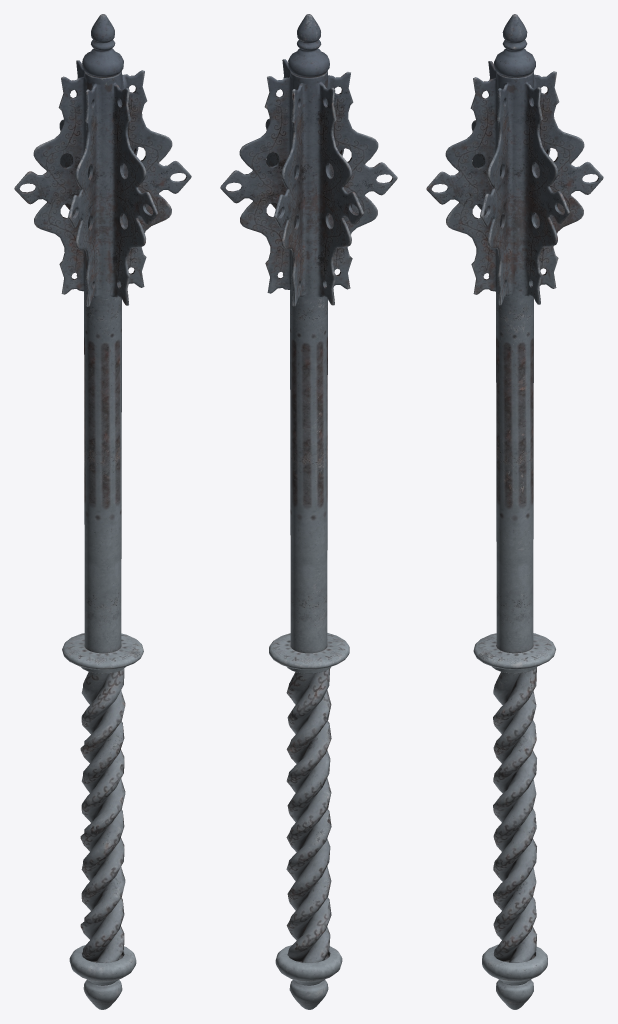
The model's file is ornate_medieval_mace_1k.gltf.
3 renders of one model, left to right at view 1: azimuth 30°, elevation 25°; view 2: azimuth 150°, elevation 25°; view 3: azimuth 270°, elevation 25°, orthographic.
Parts seen in each view (by area): view 1: ornate_medieval_mace; view 2: ornate_medieval_mace; view 3: ornate_medieval_mace.
Boxes of the visible parts, x1=… form: ornate_medieval_mace: x1=14, y1=14, x2=191, y2=1009; ornate_medieval_mace: x1=220, y1=14, x2=397, y2=1009; ornate_medieval_mace: x1=426, y1=14, x2=603, y2=1009.
Size of the model in its own units: 0.0949 by 0.63 by 0.1017.
Materials: 1 (1 with a texture image).
